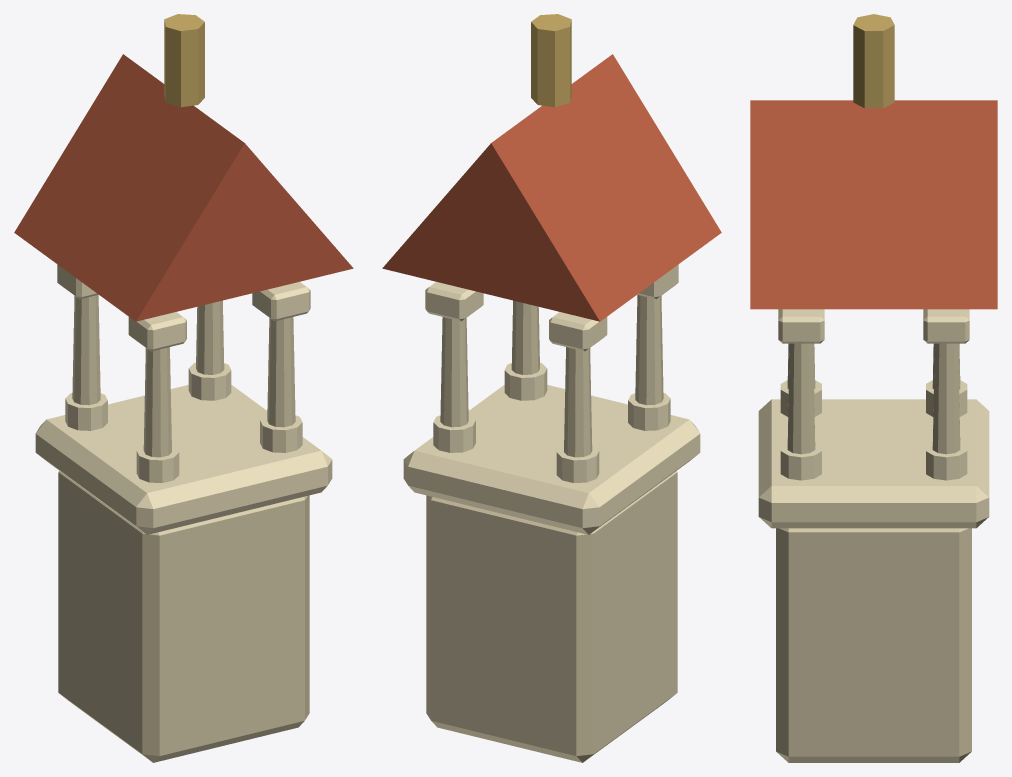
The model's file is bell-tower.glb.
3 renders of one model, left to right at view 1: azimuth 30°, elevation 25°; view 2: azimuth 150°, elevation 25°; view 3: azimuth 270°, elevation 25°, orthographic.
Visible parts, largest first — view 1: Cube, Pitched roof, Cube.001, Tapered form.008, Tapered form.001, Tapered form.003, Tapered form.005, Tapered form.007, Cube.002, Cube.004, Tapered form.006, Tapered form (+3 smaller); view 2: Cube, Pitched roof, Cube.001, Tapered form.008, Tapered form.003, Tapered form.001, Tapered form.007, Tapered form.005, Cube.003, Cube.005, Tapered form.004, Tapered form.002 (+3 smaller); view 3: Pitched roof, Cube, Cube.001, Tapered form.008, Tapered form.005, Tapered form.007, Cube.004, Cube.005, Tapered form.004, Tapered form.006, Tapered form, Tapered form.002.
Boxes of the visible parts, x1,y1,x2,y2 form: Cube: (58, 471, 309, 762); Pitched roof: (14, 54, 353, 321); Cube.001: (35, 385, 332, 534); Tapered form.008: (164, 14, 204, 107); Tapered form.001: (143, 347, 171, 457); Tapered form.003: (72, 295, 100, 405); Tapered form.005: (267, 317, 295, 427); Tapered form.007: (196, 300, 224, 374); Cube.002: (128, 312, 186, 351); Cube.004: (252, 281, 310, 321); Tapered form.006: (188, 362, 231, 400); Tapered form: (136, 445, 179, 482); Cube: (426, 471, 677, 762); Pitched roof: (382, 54, 721, 321); Cube.001: (403, 385, 700, 534); Tapered form.008: (531, 14, 571, 107); Tapered form.003: (564, 347, 592, 457); Tapered form.001: (635, 295, 663, 405); Tapered form.007: (440, 317, 468, 427); Tapered form.005: (511, 300, 539, 374); Cube.003: (549, 312, 607, 351); Cube.005: (425, 281, 483, 321); Tapered form.004: (504, 362, 547, 400); Tapered form.002: (556, 445, 599, 482); Pitched roof: (750, 100, 997, 309); Cube: (776, 528, 971, 762); Cube.001: (758, 399, 989, 528); Tapered form.008: (853, 14, 894, 108); Tapered form.005: (787, 343, 815, 454); Tapered form.007: (932, 343, 960, 454); Cube.004: (778, 309, 824, 343); Cube.005: (923, 309, 969, 343); Tapered form.004: (780, 441, 821, 480); Tapered form.006: (926, 441, 967, 480); Tapered form: (780, 380, 821, 416); Tapered form.002: (926, 380, 967, 416).
Bounding box in the file's own units: 0.3 × 0.91 × 0.29.
